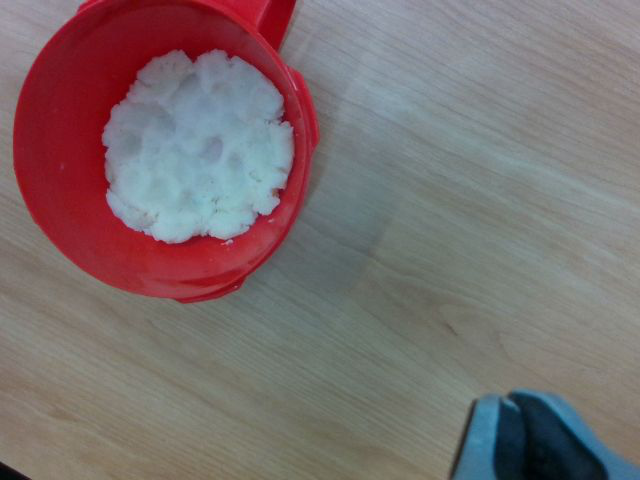mashed_potato: (102, 50, 293, 240)
